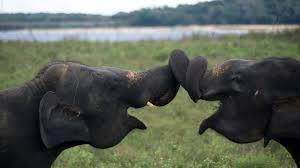elephant: (0, 49, 299, 167)
